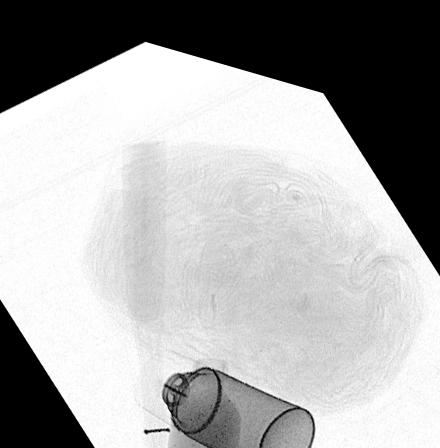Sprayer: (129, 337, 318, 448)
